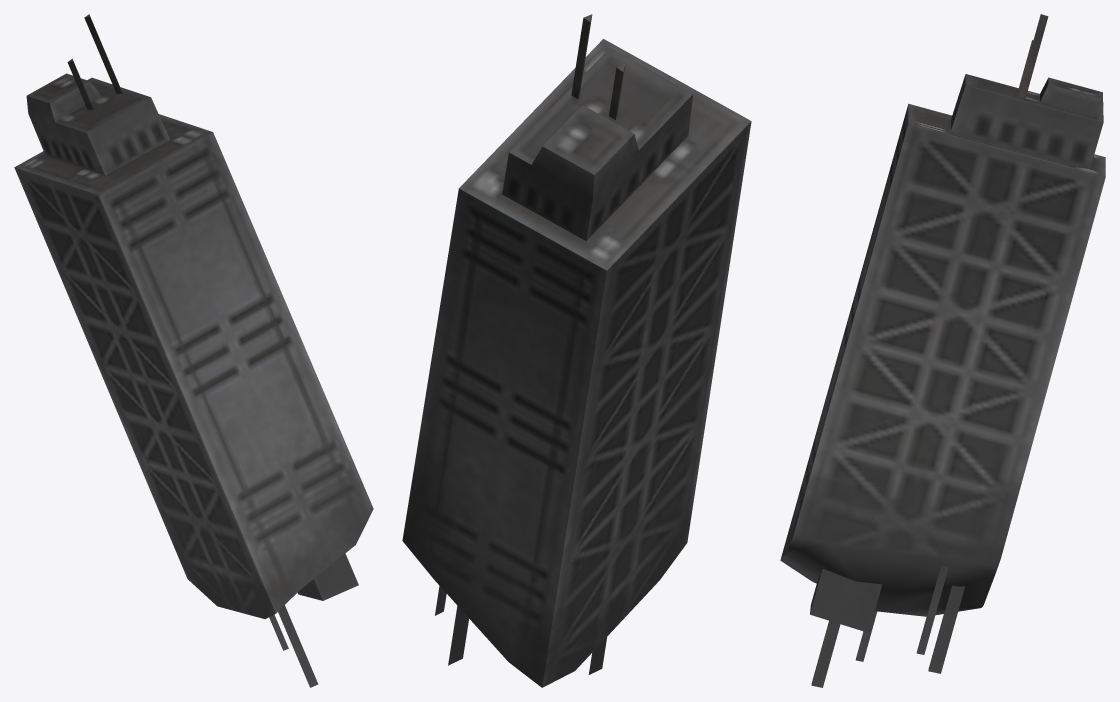
Rendered from skyBuildingAAA_pos_grp.fbx.
3 renders of one model, left to right at view 1: azimuth 30°, elevation 25°; view 2: azimuth 150°, elevation 25°; view 3: azimuth 270°, elevation 25°, orthographic. The views are drawn at different scales.
Parts seen in each view (by area): view 1: skyBuildingAAA_geo; view 2: skyBuildingAAA_geo; view 3: skyBuildingAAA_geo.
Boxes of the visible parts, x1,y1,x2,y2 form: skyBuildingAAA_geo: (14,14,373,687); skyBuildingAAA_geo: (402,14,751,687); skyBuildingAAA_geo: (780,14,1105,687).
Size of the model in its own units: 3.54 by 8.74 by 4.16.
